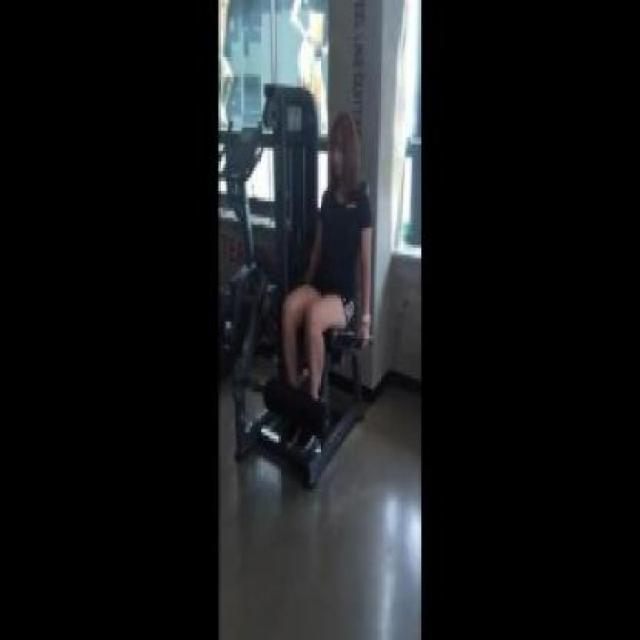leg extension: (219, 69, 406, 520)
